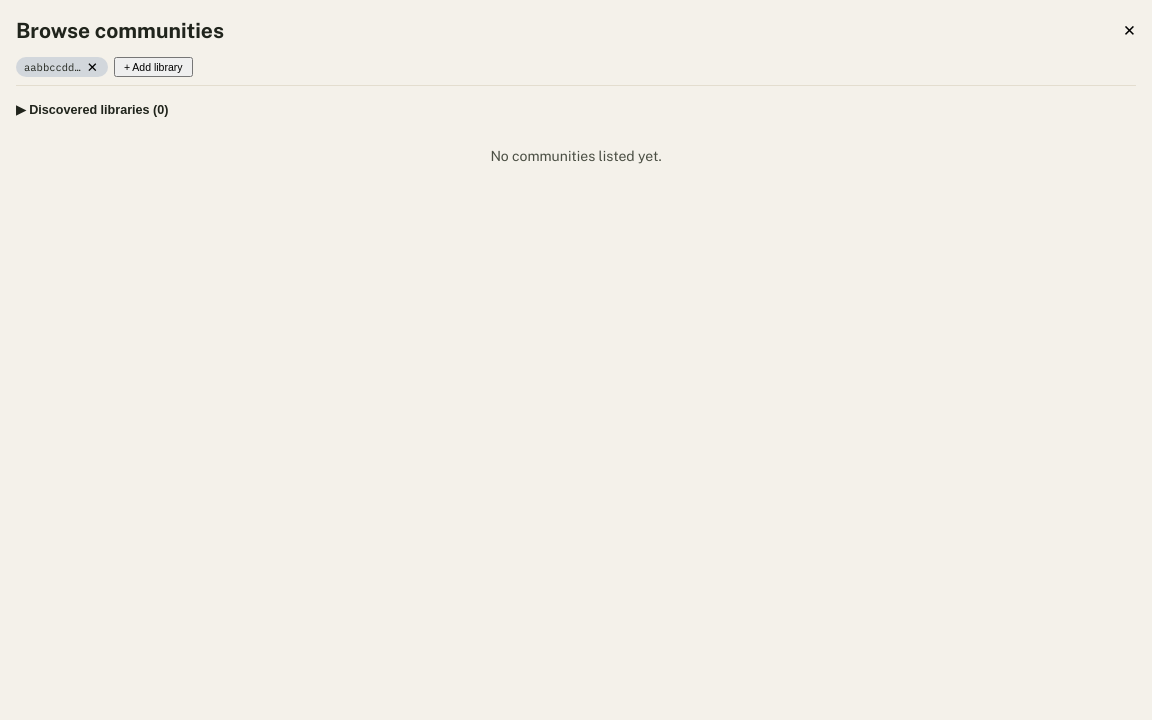
it: LibraryDirectoryBrowser › remove library failure surfaces inline error
Step 1. Click the button named "Remove library aabbccdd" → (92, 67), box x1=85 y1=60 x2=100 y2=75
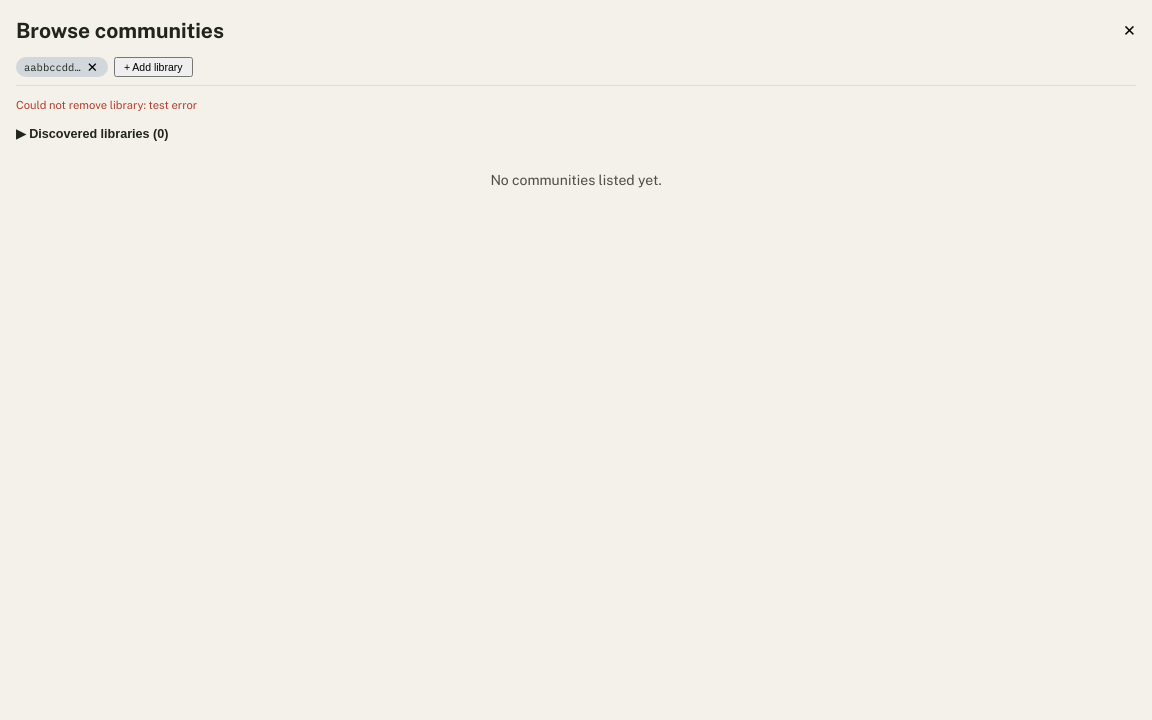
Result: the text "Could not remove library: test error" is shown at x1=16 y1=98 x2=197 y2=112
